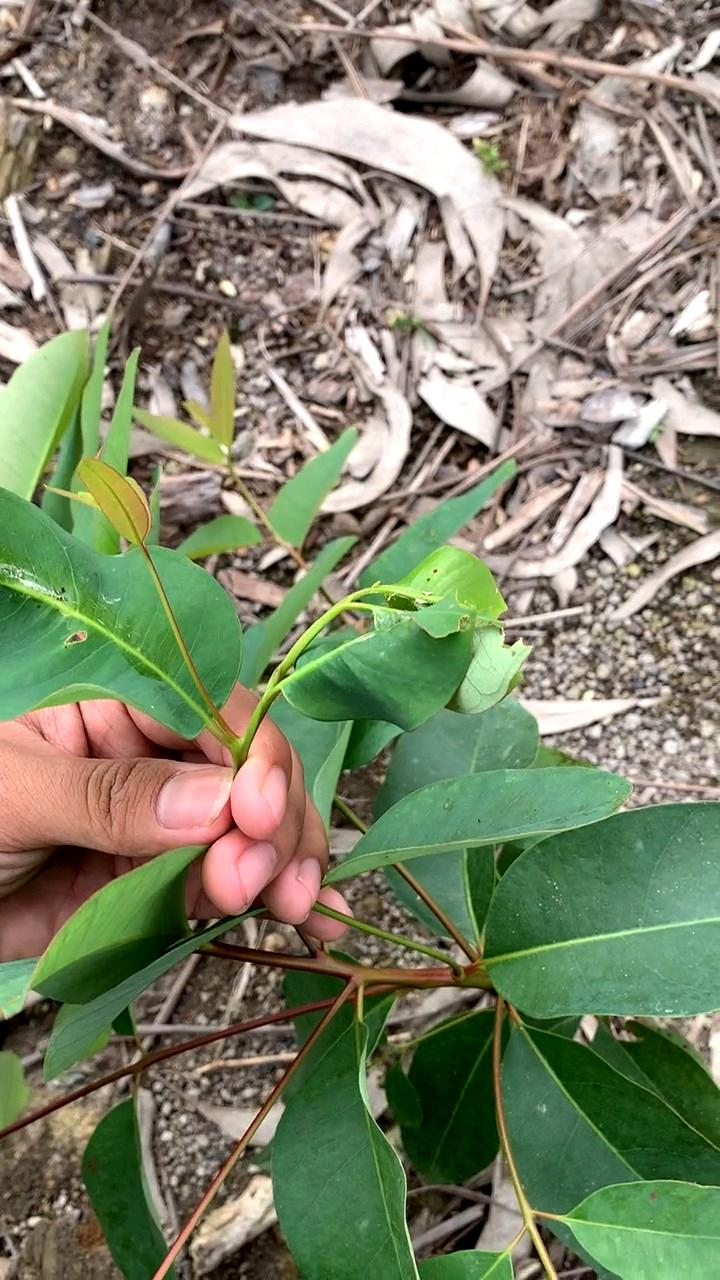Leaf Roller - Leaf: (343, 573, 543, 717)
